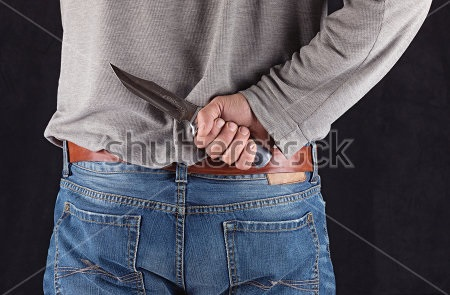knife: (103, 56, 242, 154)
